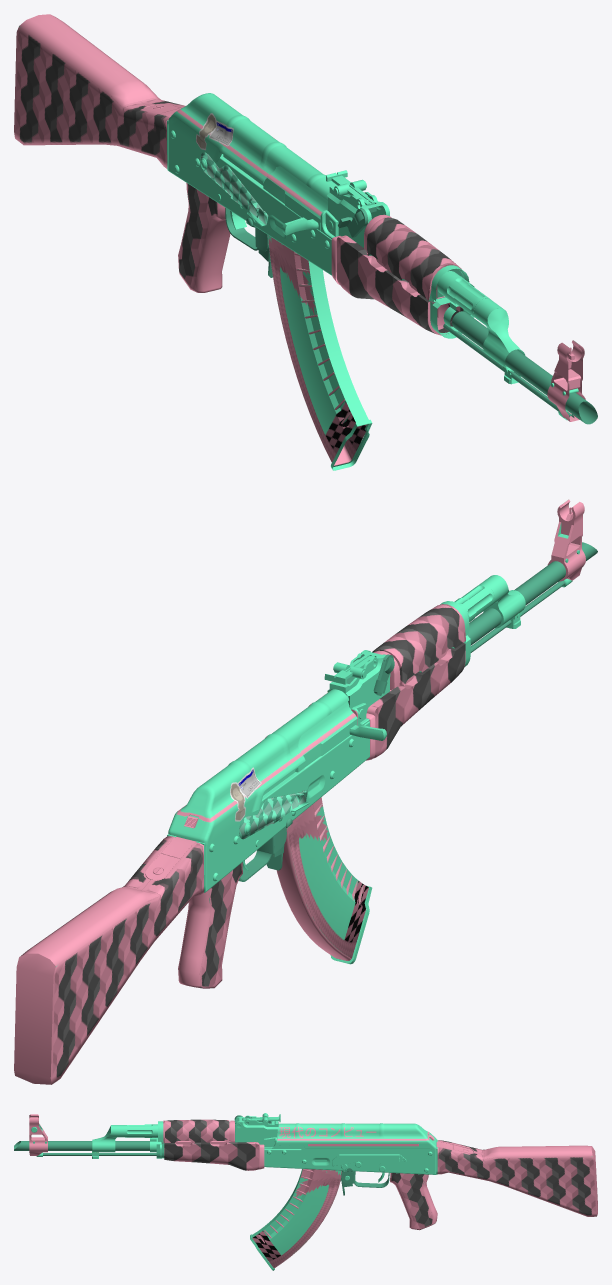
File: ak-47__aesthetic.glb
3 views of the same model, one above another, from view 1: azimuth 30°, elevation 25°; view 2: azimuth 150°, elevation 25°; view 3: azimuth 270°, elevation 25° (orthographic). The views are drawn at different scales.
Visible parts, largest first — view 1: Object_2, Object_3; view 2: Object_2, Object_3; view 3: Object_3, Object_2.
Part boxes in pixels (<box>): Object_2: <box>145,93,597,470</box>; Object_3: <box>14,14,585,465</box>; Object_2: <box>14,499,597,1084</box>; Object_3: <box>20,502,585,1084</box>; Object_3: <box>29,1113,597,1268</box>; Object_2: <box>14,1114,597,1270</box>.
Bounding box in the file's own units: 2.99 × 10.91 × 37.75.
1 material, 1 textured.
